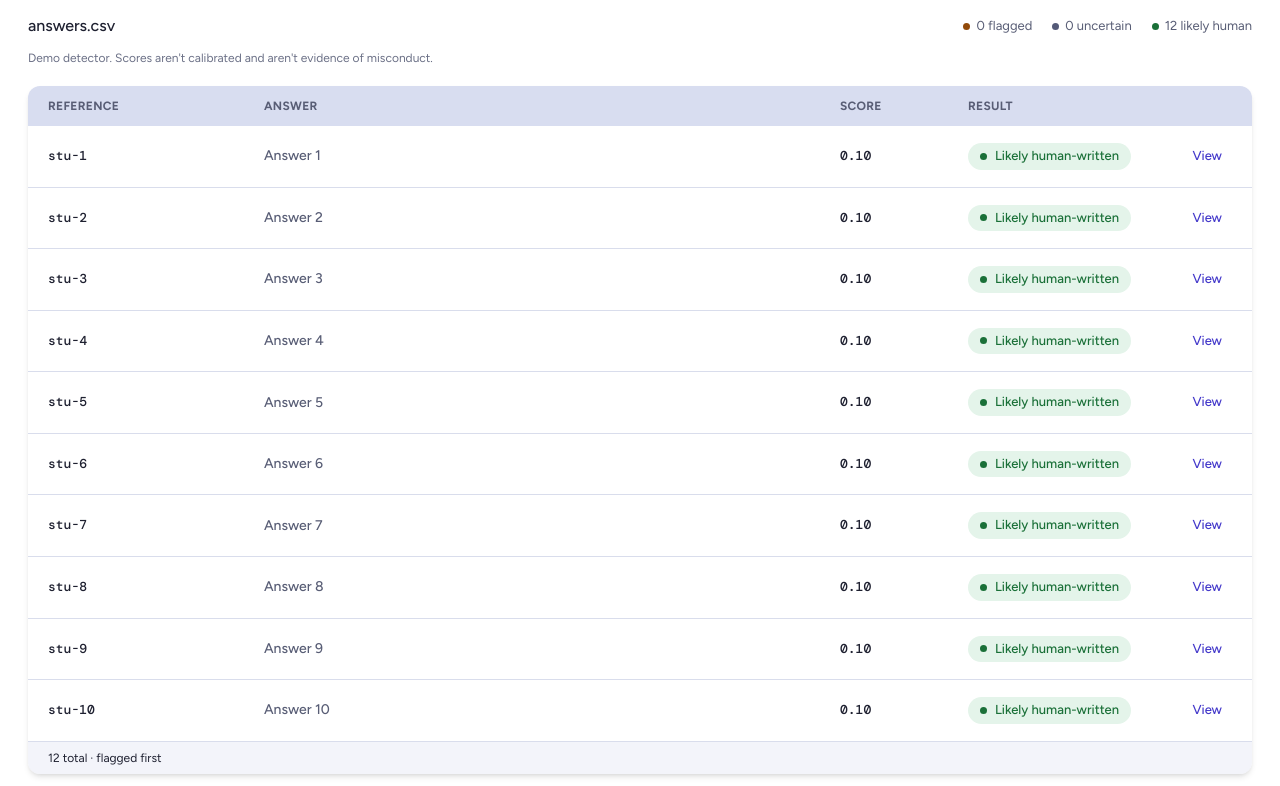
Scenario: BatchResultsTable detail focus › returns focus to the row's View button on Back to results
Click the button "View" in the row of "stu-2". click: x=1207, y=218
box: [1182,204,1232,232]
(page scrolled)
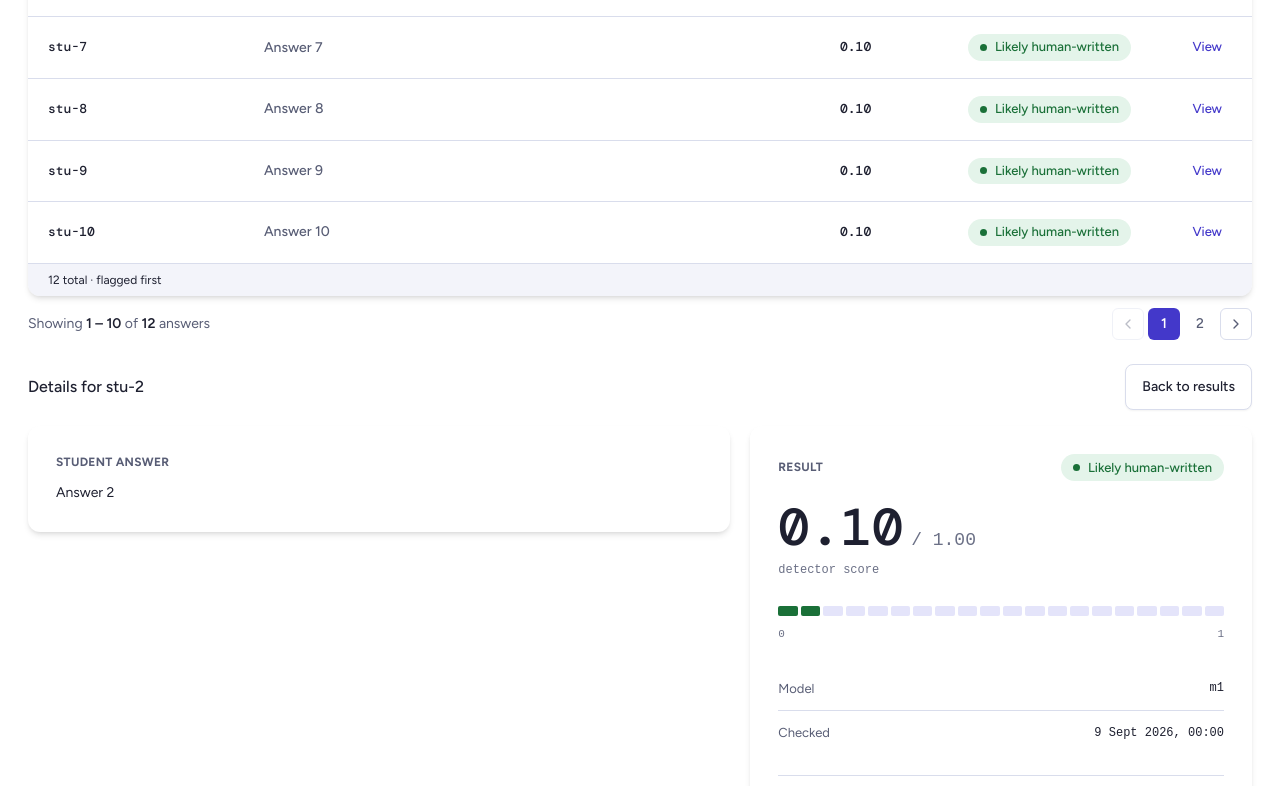
Click the button "Back to results". click: x=1189, y=387
box: [1125,364,1252,410]
(page scrolled)
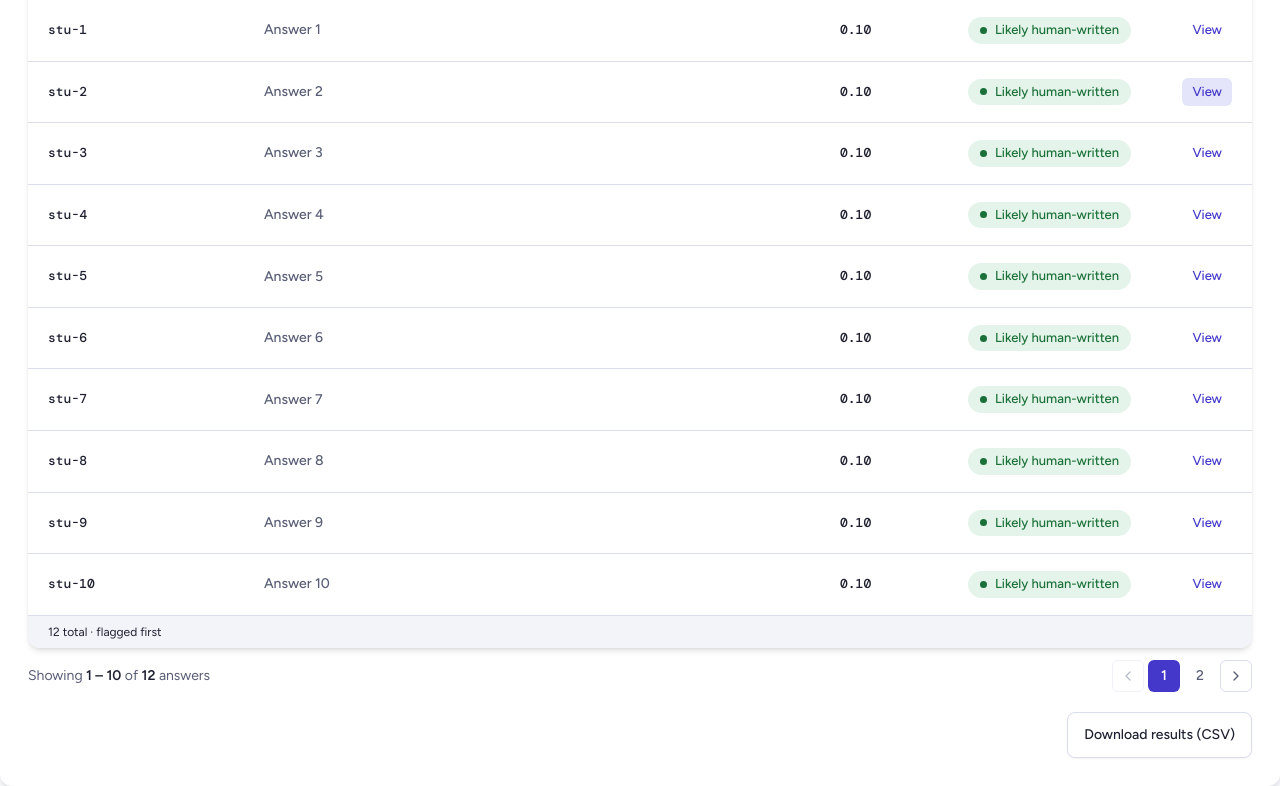
Expected: the heading "Details for" is gone
